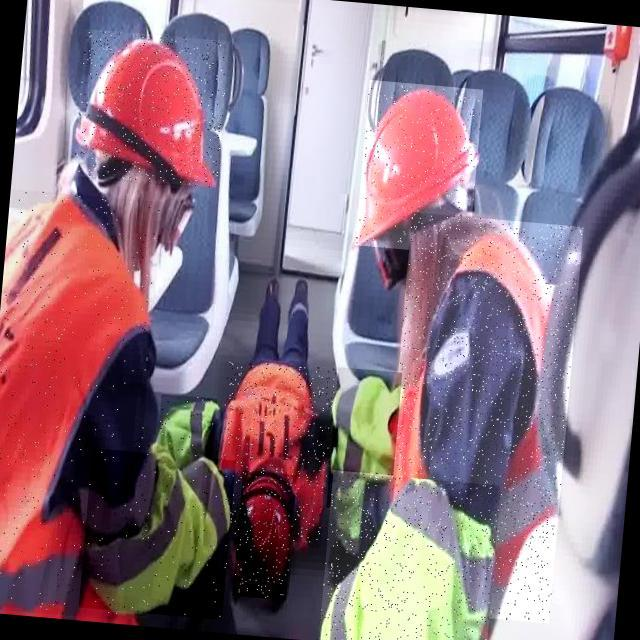Helmet: (73, 29, 229, 188), (355, 80, 483, 255), (232, 470, 297, 600)
Person: (335, 79, 583, 640), (0, 31, 226, 640), (219, 239, 343, 640)
Safety Vest: (339, 213, 583, 624), (0, 189, 214, 621), (329, 475, 513, 640), (219, 363, 324, 547), (95, 480, 209, 640), (332, 379, 406, 480), (156, 399, 217, 482)
